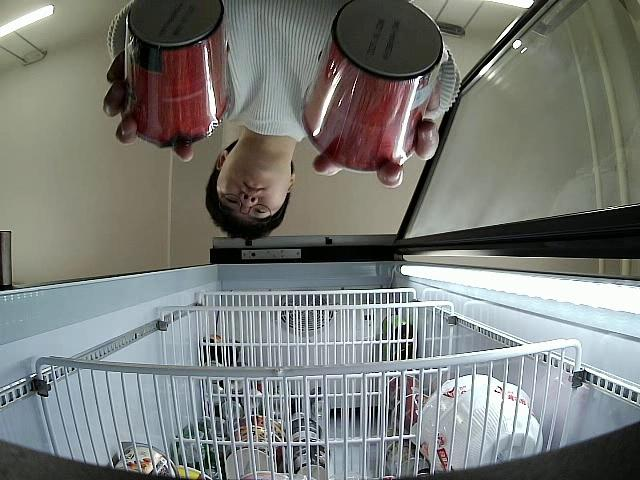00_hand: (101, 56, 203, 164), (311, 120, 440, 187)
02_shinRamen_S: (302, 0, 440, 169), (127, 0, 229, 148)
